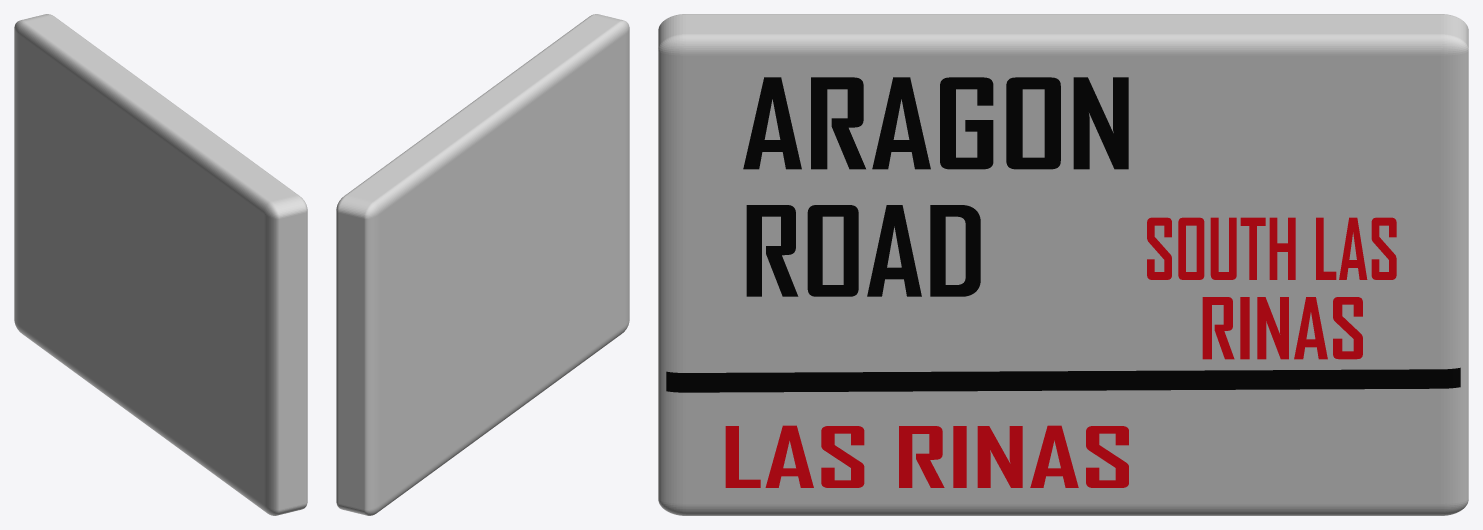
File: uk_styled_street_sign_33.fbx
3 views of the same model, side by side, from view 1: azimuth 30°, elevation 25°; view 2: azimuth 150°, elevation 25°; view 3: azimuth 270°, elevation 25° (orthographic). The views are drawn at different scales.
Parts seen in each view (by area): view 1: Cube; view 2: Cube; view 3: Cube, Text, Text.002, Text.001, Text.003, Text.004.
Boxes of the visible parts, box(x1,y1,x2,y2) form: Cube: box(14, 14, 307, 515); Cube: box(336, 14, 629, 515); Cube: box(658, 14, 1468, 515); Text: box(743, 77, 1128, 169); Text.002: box(725, 425, 1128, 487); Text.001: box(746, 205, 980, 296); Text.003: box(1147, 217, 1396, 279); Text.004: box(1202, 297, 1362, 359).
Bounding box in the file's own units: 1.63 × 11.91 × 18.18.
